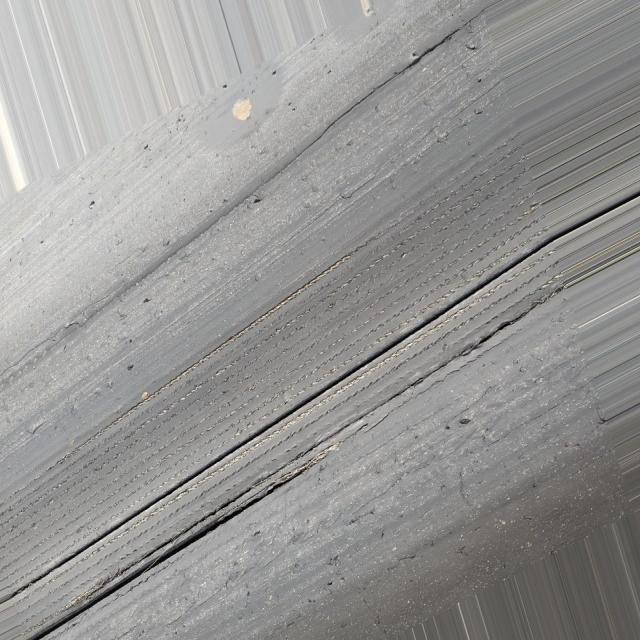Tear: (30, 235, 555, 585), (29, 447, 338, 640), (280, 21, 458, 172)
Wear: (52, 137, 546, 550)
